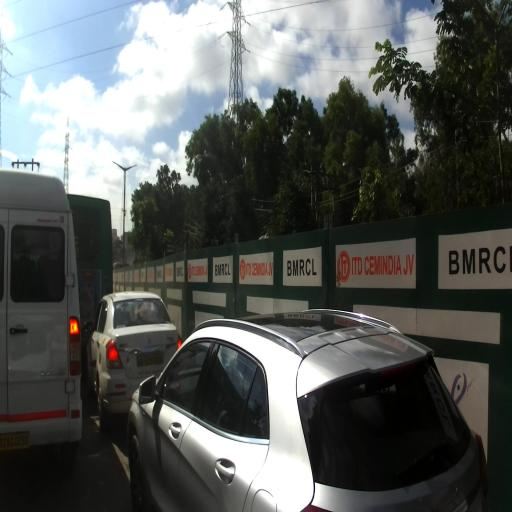street_light_0: (112, 161, 126, 174), (124, 164, 137, 174)
